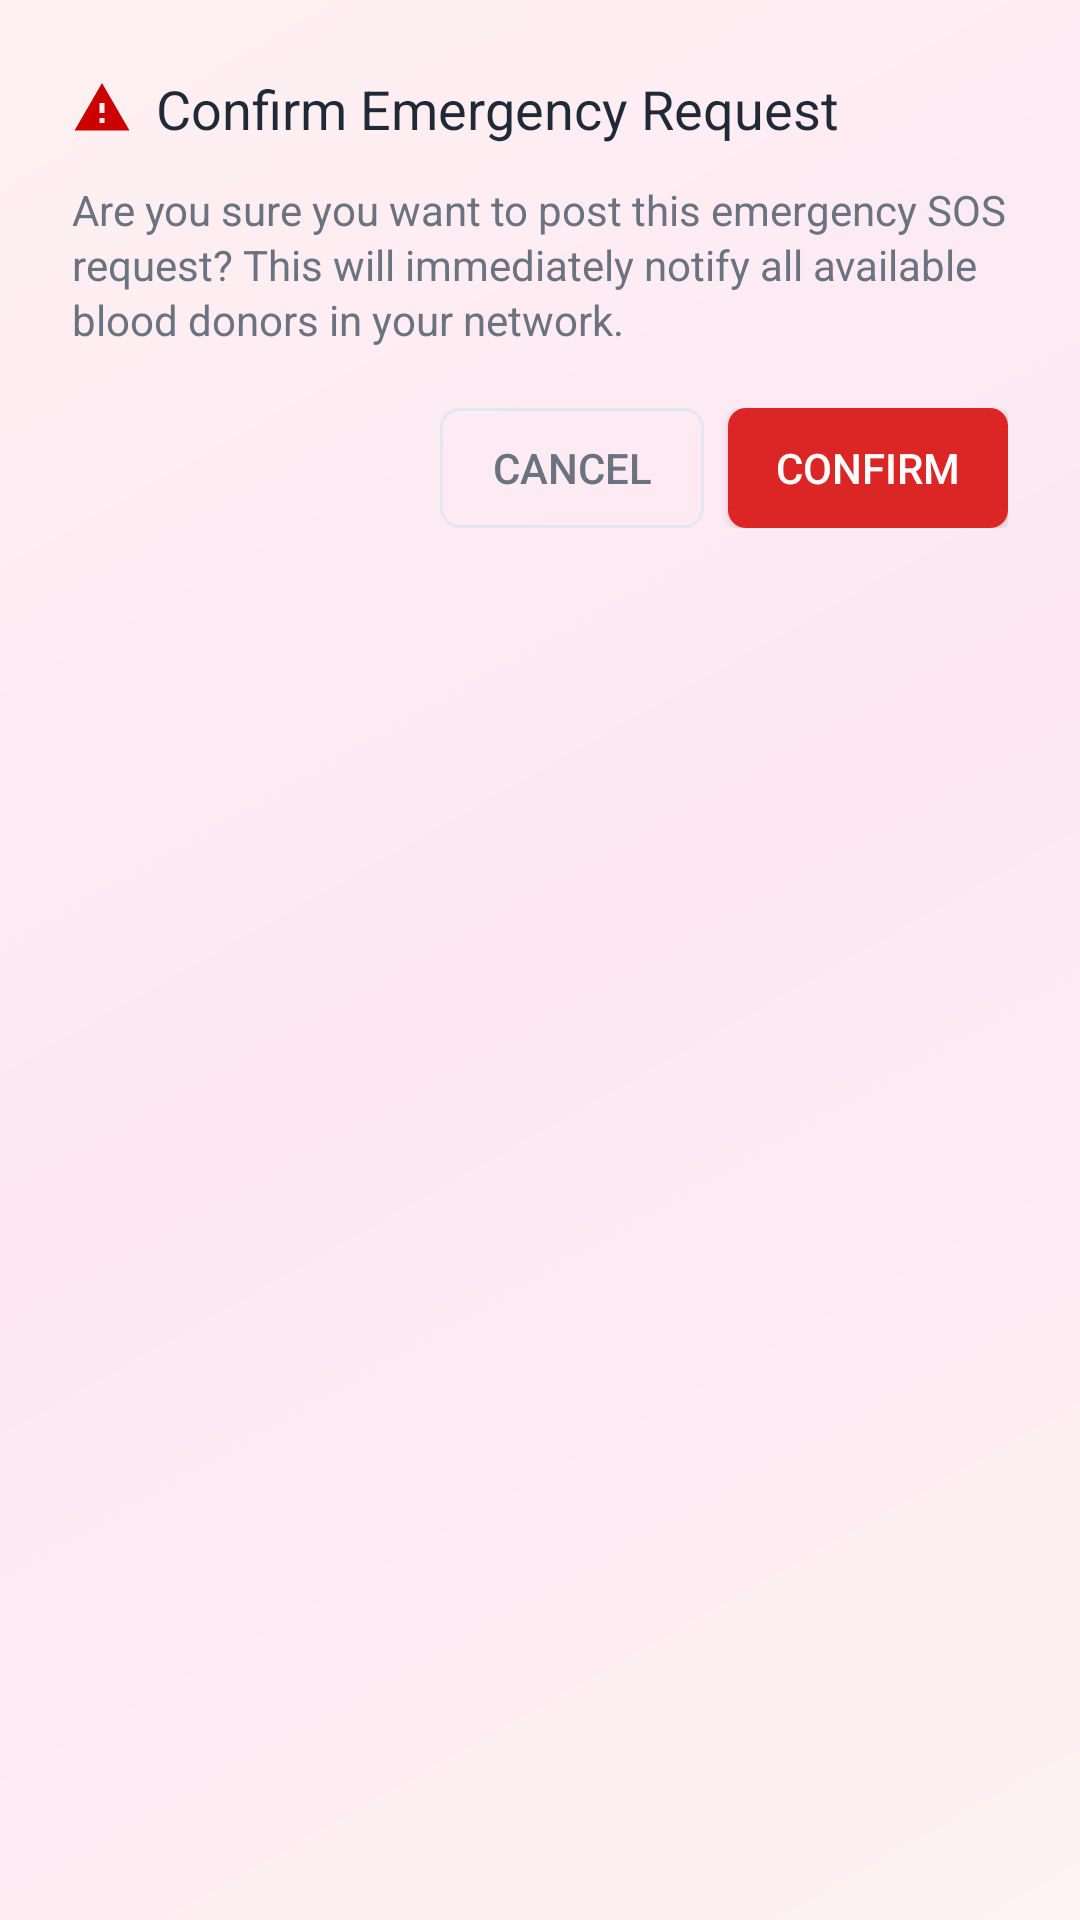

Screen size 1080*1920. Icon name, then its center in pixels as (x,y):
Alert: (102,107)
